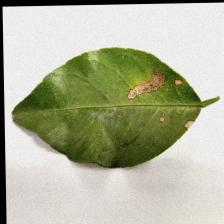canker: (100, 60, 198, 132)
